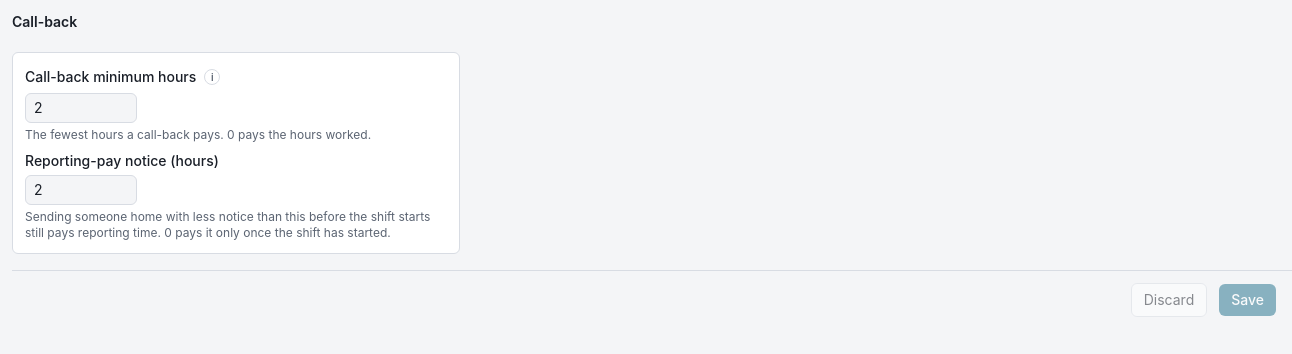
Test case: the call-back minimum in Settings › Pay › will not save a minimum longer than a day
This screenshot has width=1292, height=354.
Step 1. Replace the text in the number field labelled "Call-back minimum hours" with "30" → (81, 108), box [25, 93, 137, 123]
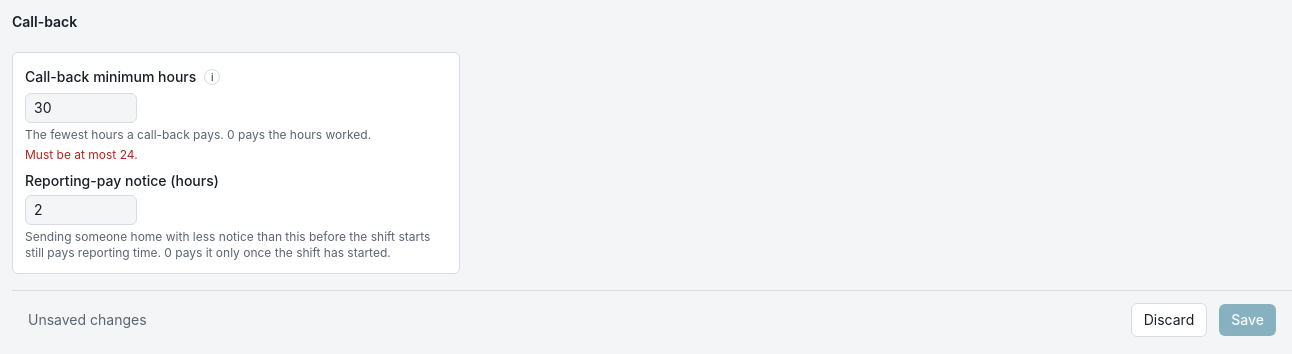
Expected: the button "Save" is disabled, [1219, 304, 1276, 336]
Expected: the text "Must be at most 24." is shown, [25, 147, 138, 162]
